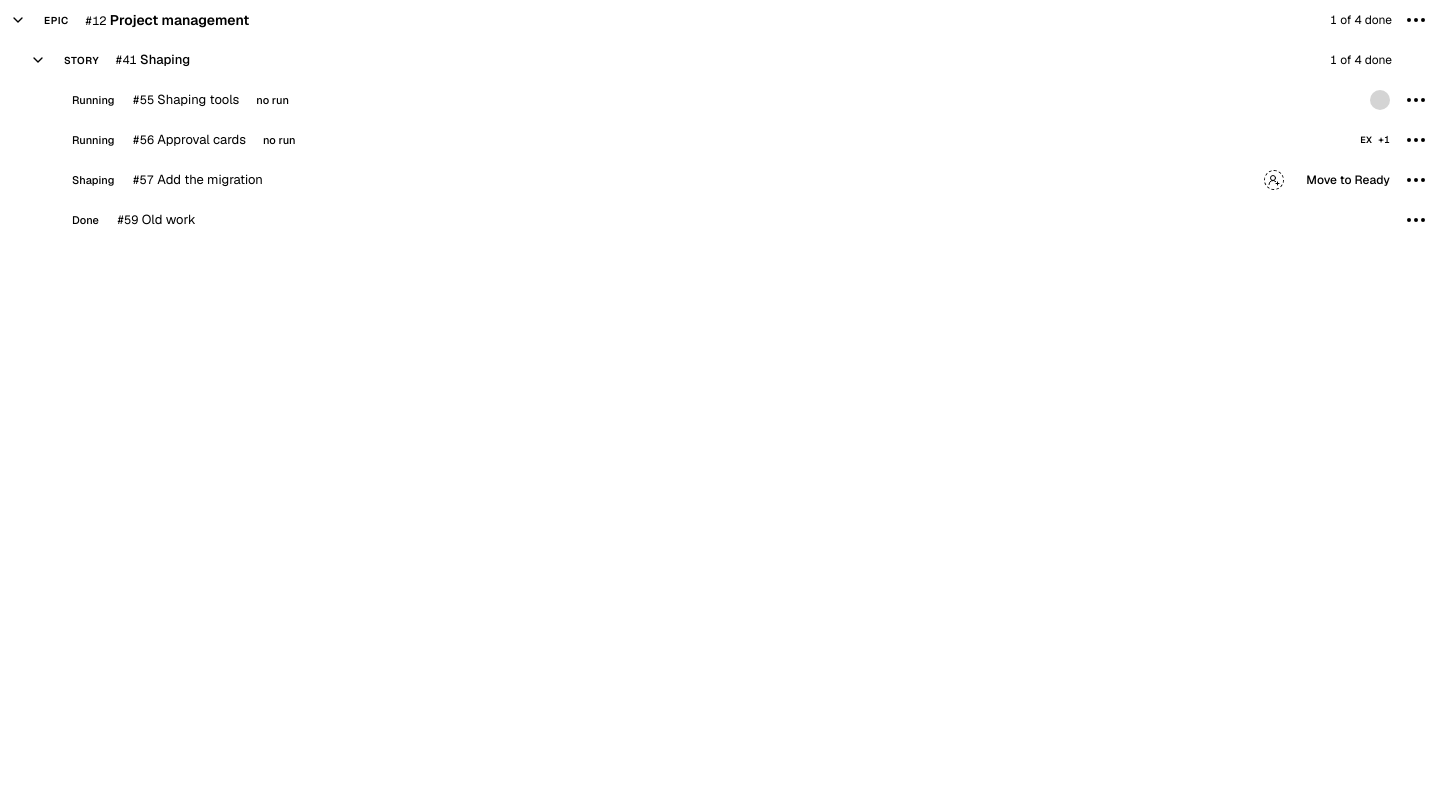
a failed assignment says why and keeps the popover open
The width and height of the screenshot is (1440, 810).
Click the button named "Assign #57" at (1274, 180), box 1262,168 -> 1286,192
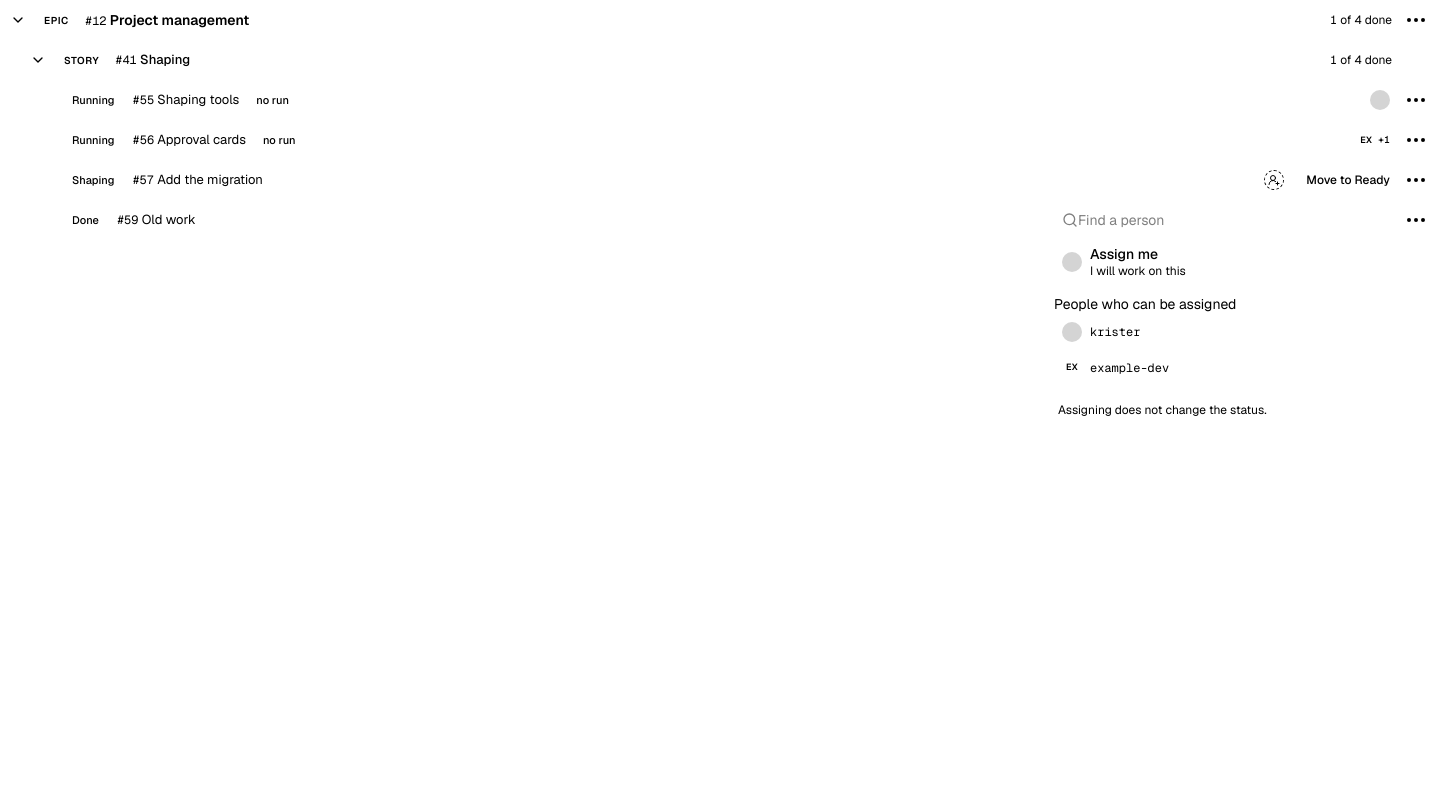
Click the option "EX example-dev" at (1118, 368), box 1066,360 -> 1169,376
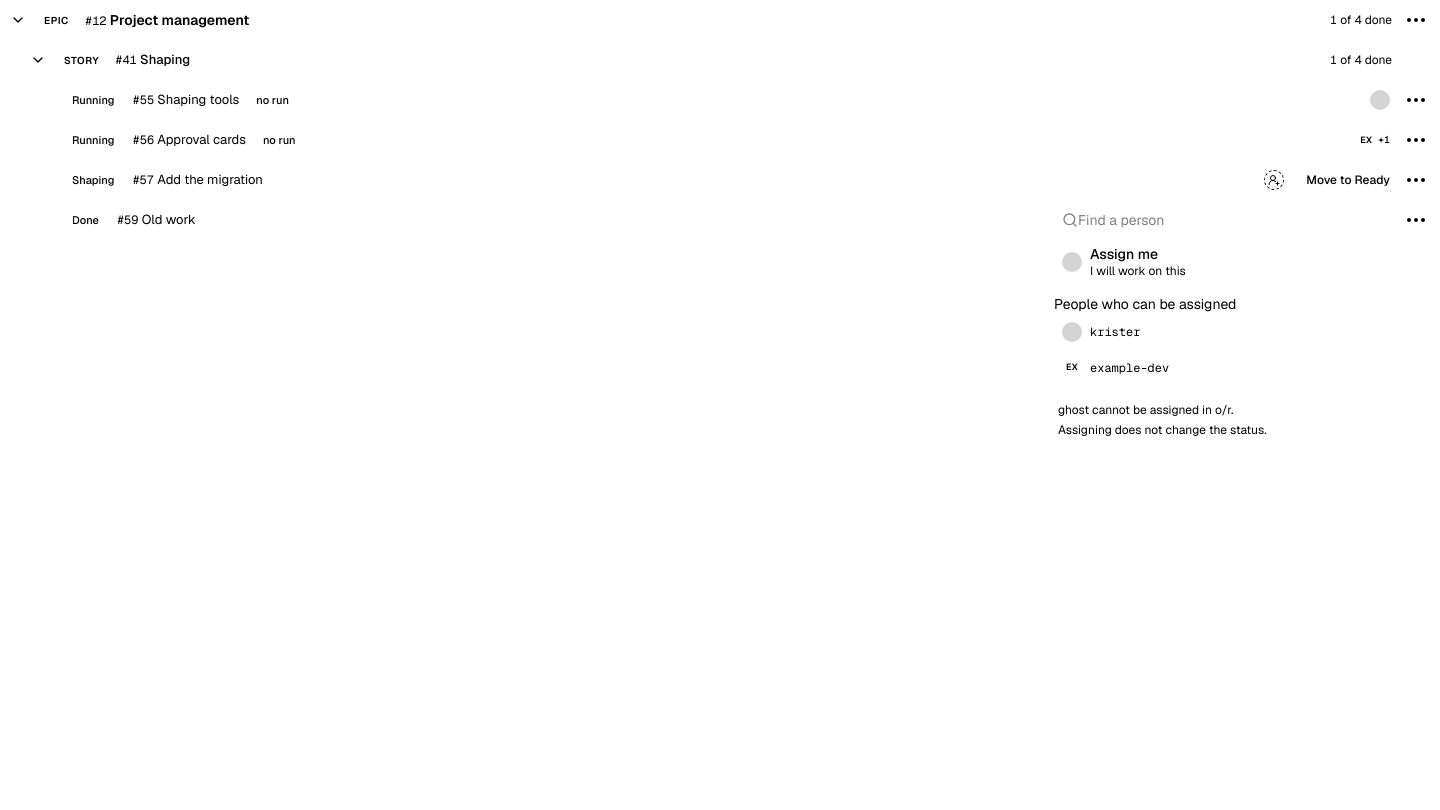
Check: the text "ghost cannot be assigned in o/r." is shown, box 1058,402 -> 1234,418
